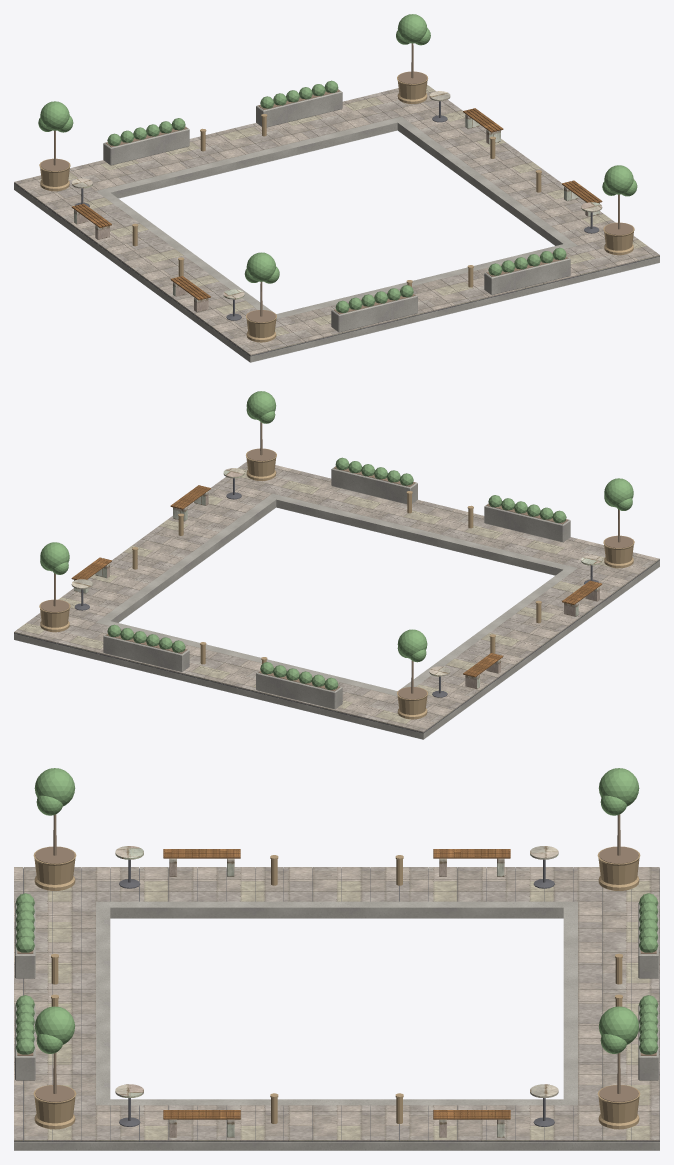
The model's file is terrace.glb.
3 renders of one model, top to bottom at view 1: azimuth 30°, elevation 25°; view 2: azimuth 150°, elevation 25°; view 3: azimuth 270°, elevation 25°, orthographic. The views are drawn at different scales.
Parts seen in each view (by area): view 1: terrace_paver, terrace_concrete, terrace_plant, terrace_bronze, terrace_hedge, terrace_stone, terrace_mulch, terrace_wood, terrace_ceil, terrace_dark; view 2: terrace_paver, terrace_concrete, terrace_bronze, terrace_hedge, terrace_plant, terrace_stone, terrace_mulch, terrace_wood, terrace_ceil, terrace_dark; view 3: terrace_paver, terrace_concrete, terrace_bronze, terrace_plant, terrace_hedge, terrace_wood, terrace_dark, terrace_stone, terrace_mulch, terrace_ceil, terrace_iron, terrace_bark.
Part boxes in pixels (left/top/right/bottom): terrace_paver: left=14, top=84, right=659, bottom=355; terrace_concrete: left=14, top=89, right=659, bottom=362; terrace_plant: left=38, top=14, right=637, bottom=283; terrace_bronze: left=39, top=71, right=634, bottom=342; terrace_hedge: left=107, top=80, right=566, bottom=312; terrace_stone: left=71, top=91, right=602, bottom=312; terrace_mulch: left=40, top=71, right=633, bottom=322; terrace_wood: left=71, top=108, right=602, bottom=300; terrace_ceil: left=14, top=130, right=659, bottom=362; terrace_dark: left=14, top=183, right=659, bottom=356; terrace_paver: left=14, top=461, right=659, bottom=732; terrace_concrete: left=14, top=466, right=659, bottom=739; terrace_bronze: left=39, top=448, right=634, bottom=719; terrace_hedge: left=107, top=457, right=566, bottom=689; terrace_plant: left=40, top=391, right=633, bottom=662; terrace_stone: left=71, top=468, right=602, bottom=689; terrace_mulch: left=40, top=448, right=633, bottom=699; terrace_wood: left=71, top=485, right=602, bottom=677; terrace_ceil: left=14, top=507, right=659, bottom=739; terrace_dark: left=14, top=560, right=659, bottom=733; terrace_paver: left=14, top=867, right=659, bottom=1141; terrace_concrete: left=14, top=901, right=659, bottom=1150; terrace_bronze: left=33, top=846, right=640, bottom=1129; terrace_plant: left=34, top=768, right=639, bottom=1053; terrace_hedge: left=15, top=893, right=658, bottom=1054; terrace_wood: left=163, top=849, right=510, bottom=1119; terrace_dark: left=14, top=868, right=659, bottom=1141; terrace_stone: left=115, top=846, right=558, bottom=1137; terrace_mulch: left=17, top=846, right=656, bottom=1102; terrace_ceil: left=14, top=918, right=659, bottom=1150; terrace_iron: left=119, top=859, right=554, bottom=1126; terrace_bark: left=53, top=814, right=620, bottom=1093.
Size of the model in its own units: 13.4 by 2.87 by 13.4.
Materials: 13 (4 with a texture image).
